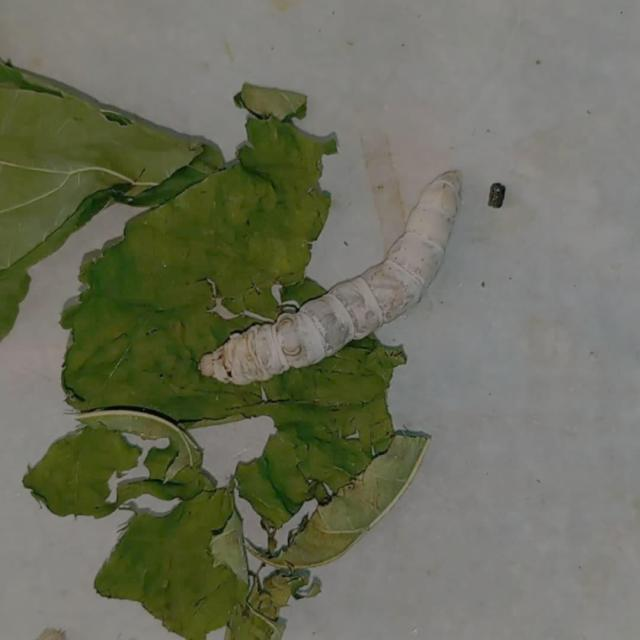Grasserie: (175, 141, 486, 413)
